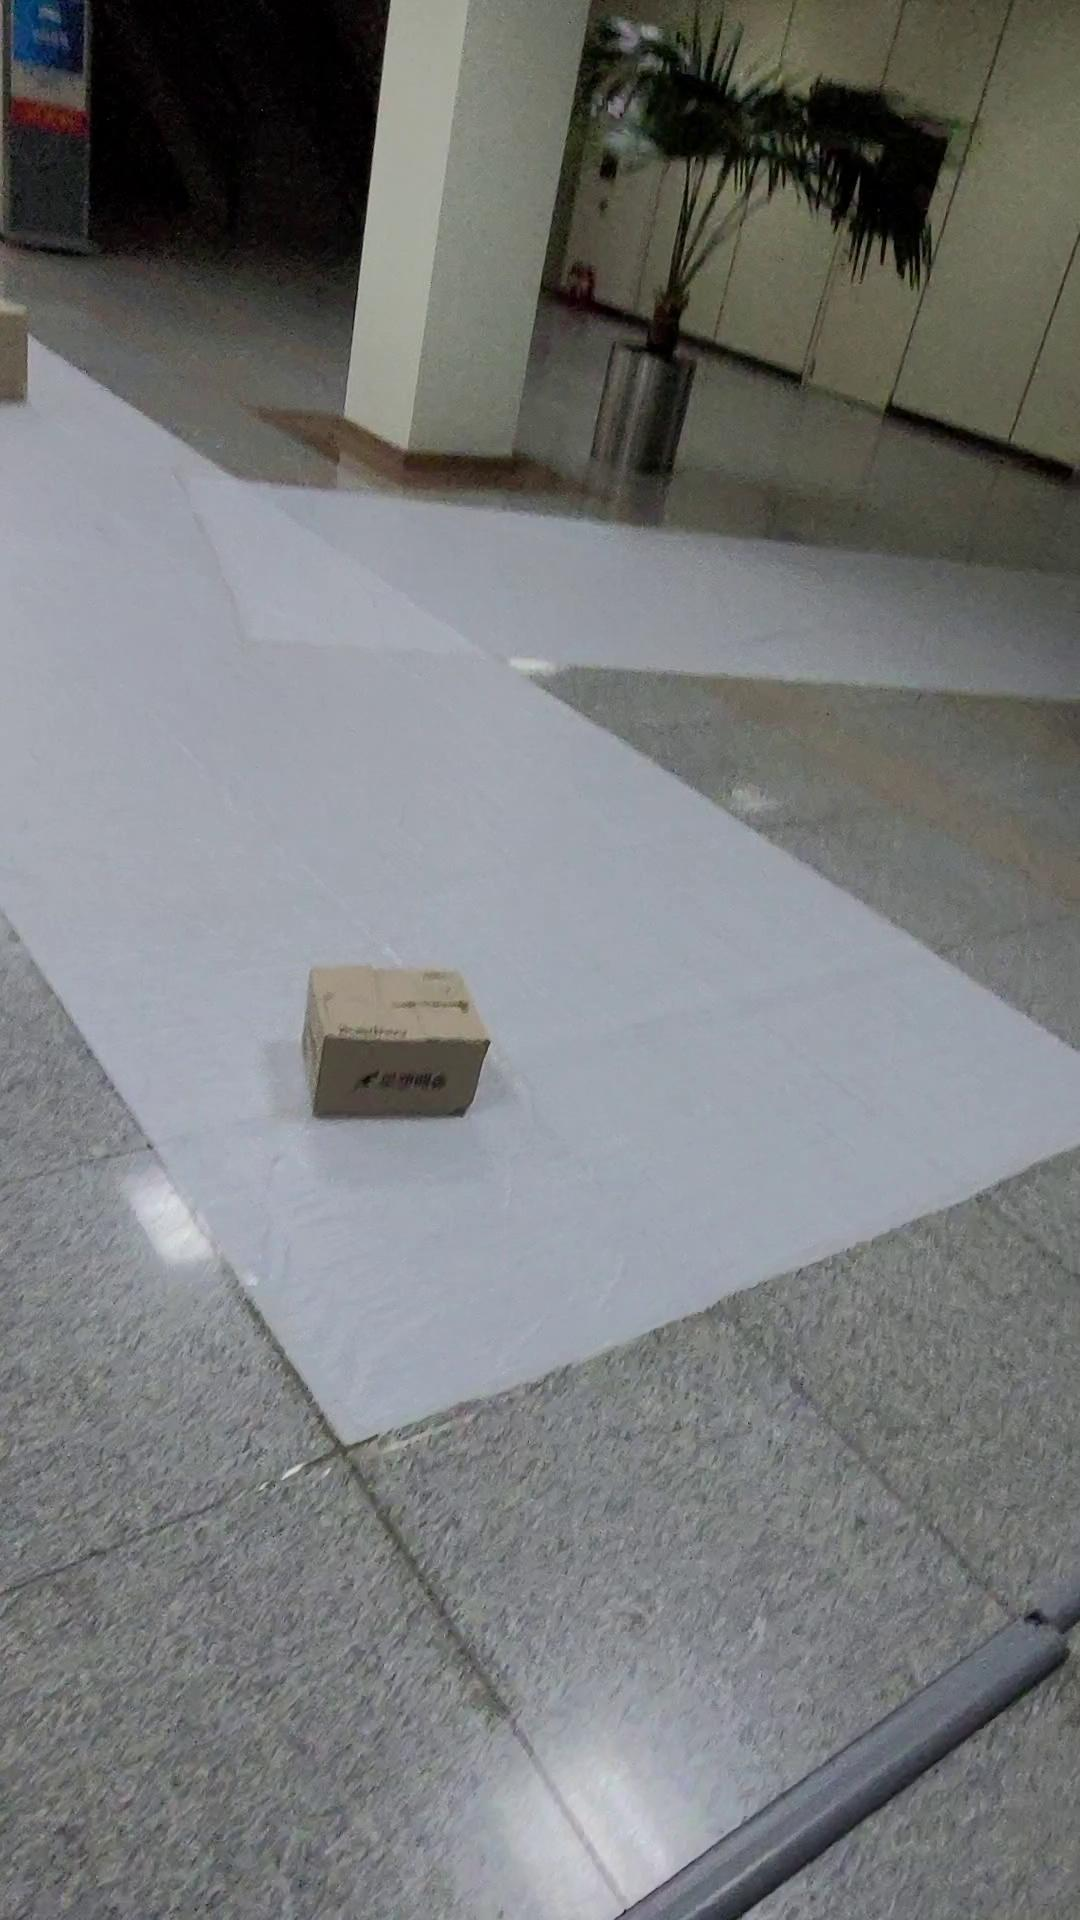Box: (278, 923, 506, 1143), (0, 262, 91, 404)
